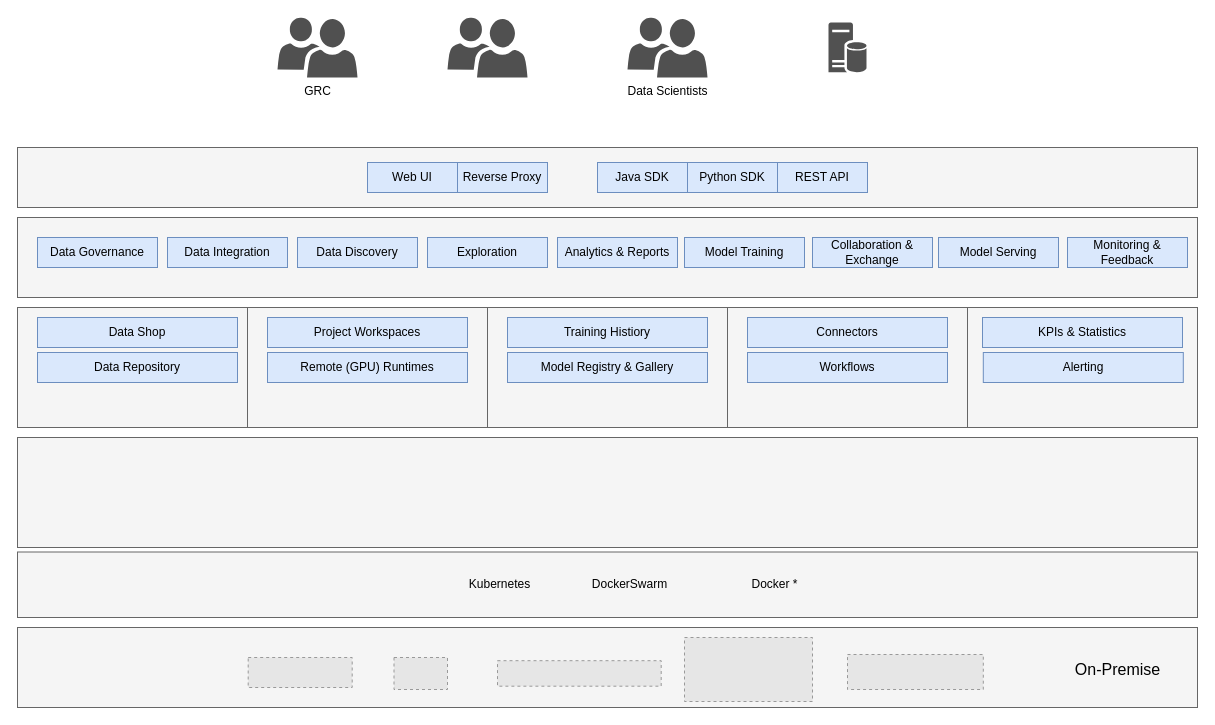
Some shapes in this 1215 by 725 pixel diagram are drawn without their labels. Grey dashed boxes stand in for pictures. The box of each missing label's shape, as (x1, y1, x2, y2) in pixels:
Activities: (16, 216, 1198, 298)
Automation & Process Integration: (726, 306, 968, 428)
Data Management: (16, 306, 248, 428)
Data Owners: (447, 17, 527, 77)
Data Science Hub: (16, 146, 1198, 208)
MLOps: (486, 306, 728, 428)
Orchestration: (16, 551, 1198, 618)
Other Systems: (828, 22, 866, 72)
Run Anywhere & Distributed: (16, 626, 1198, 708)
Statistics & Monitoring: (966, 306, 1198, 428)
Technology Options: (16, 436, 1198, 548)
Training Runtimes: (246, 306, 488, 428)
